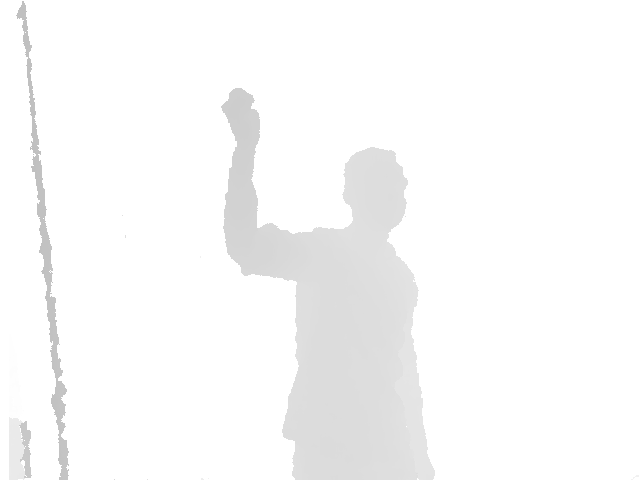hand: (221, 87, 261, 153)
hand_down: (405, 441, 435, 478)
head: (342, 146, 408, 232)
person: (220, 87, 436, 480)
